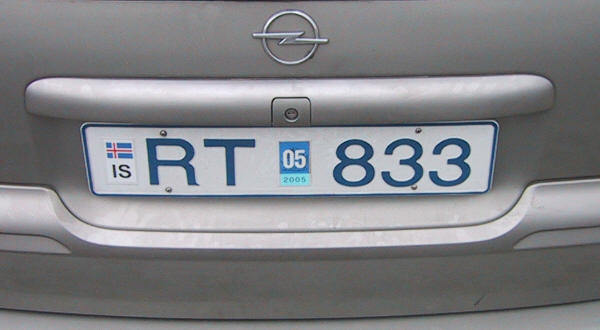license_plate: (79, 122, 500, 195)
